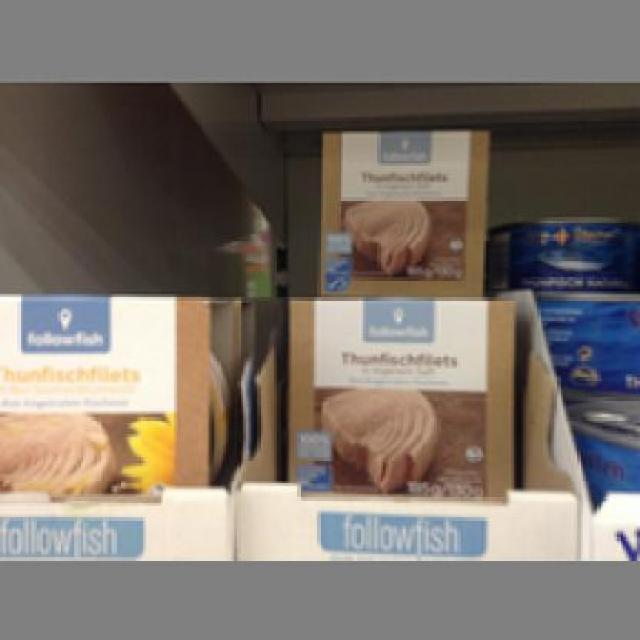Fish: (0, 292, 237, 498), (283, 291, 512, 504), (314, 128, 490, 288), (488, 213, 634, 290)
